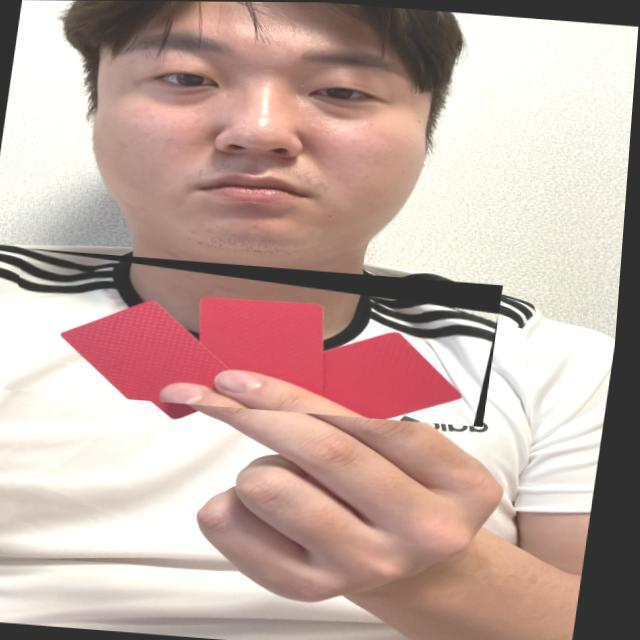hwatoo: (7, 248, 509, 426)
